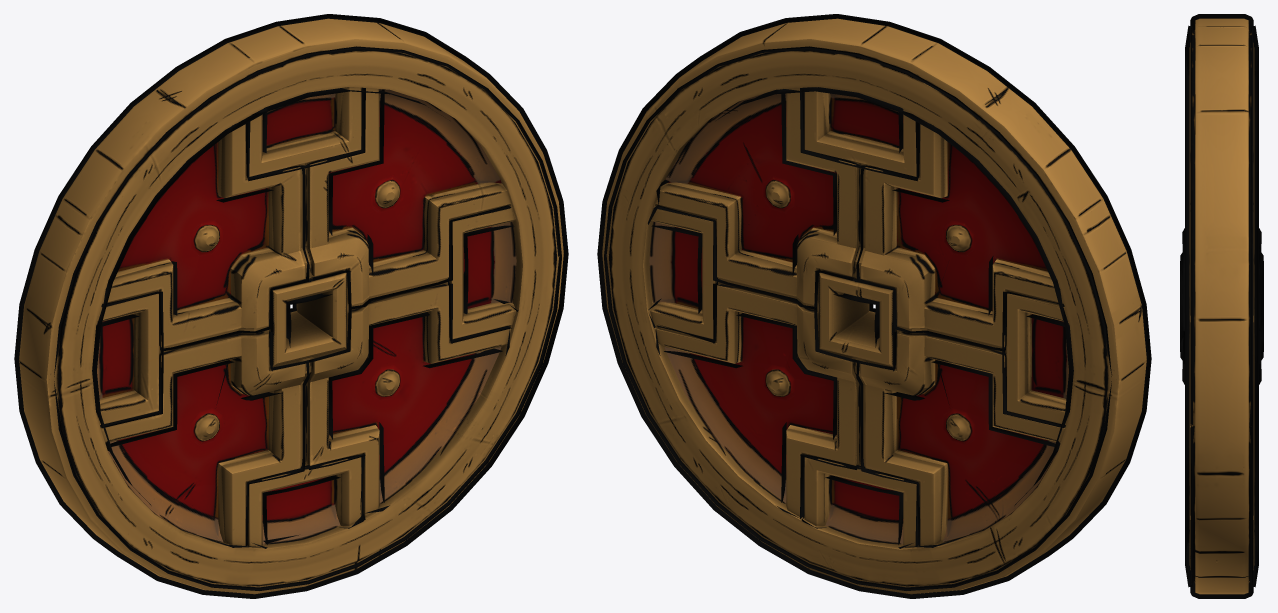
Rendered from mantis-flip-coin.glb.
3 views of the same model, side by side, from view 1: azimuth 30°, elevation 25°; view 2: azimuth 150°, elevation 25°; view 3: azimuth 270°, elevation 25° (orthographic). The views are drawn at different scales.
Visible parts, largest first — view 1: CentredCoin; view 2: CentredCoin; view 3: CentredCoin.
Part boxes in pixels (x1,y1,x2,y2): CentredCoin: [14, 14, 568, 598]; CentredCoin: [597, 14, 1151, 598]; CentredCoin: [1180, 14, 1263, 598].
Size of the model in its own units: 0.54 by 0.5398 by 0.0773.
Materials: 2 (1 with a texture image).
